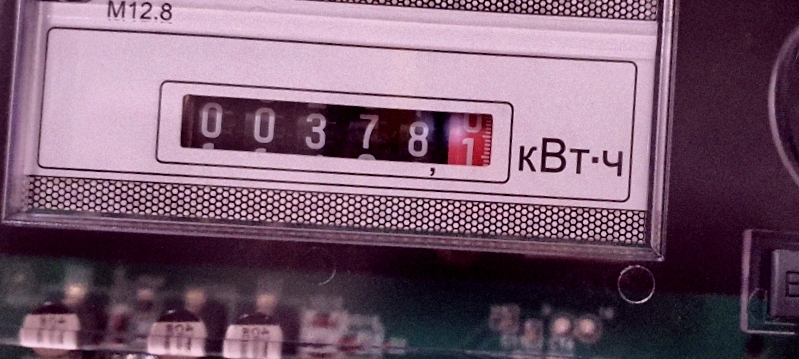0: (197, 97, 228, 140), (250, 104, 278, 145), (460, 111, 484, 135)
1: (456, 133, 479, 167)
3: (300, 109, 330, 152)
7: (353, 110, 381, 151)
8: (404, 117, 432, 159)
screen: (157, 63, 516, 191)
